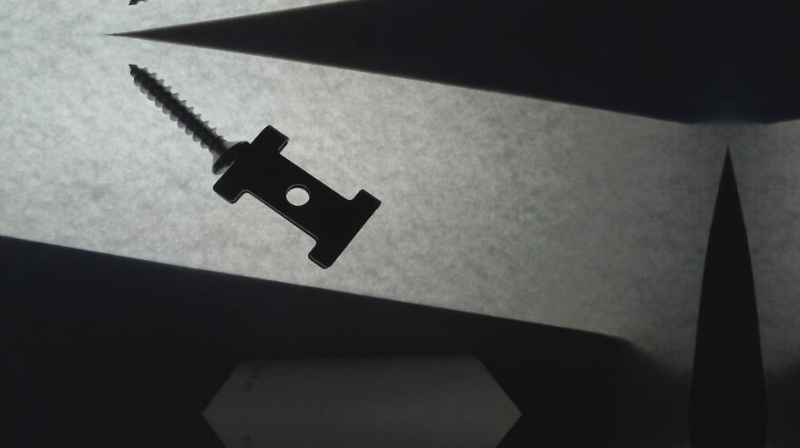O002: (213, 124, 382, 268)
S001: (124, 60, 251, 173)
